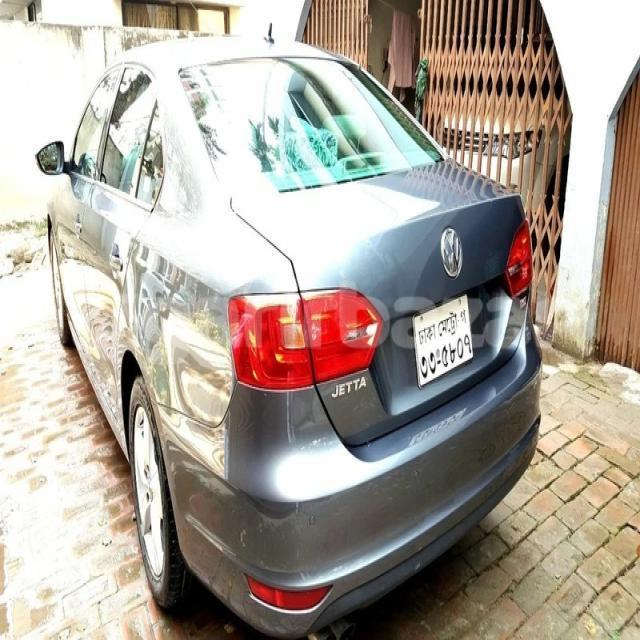numberplate: (411, 293, 474, 388)
